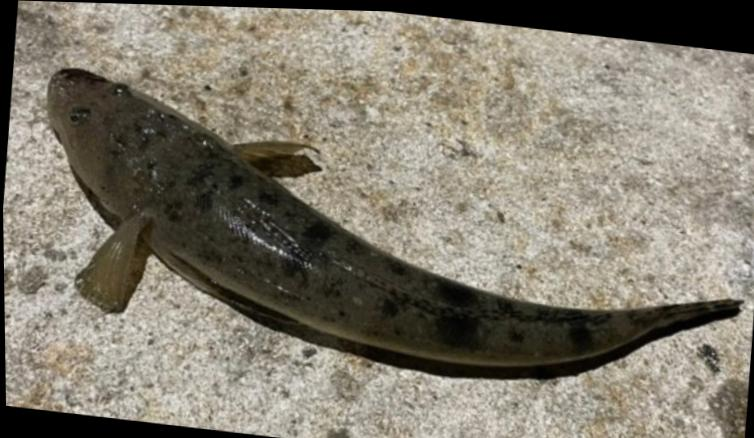fish: (44, 68, 744, 379)
